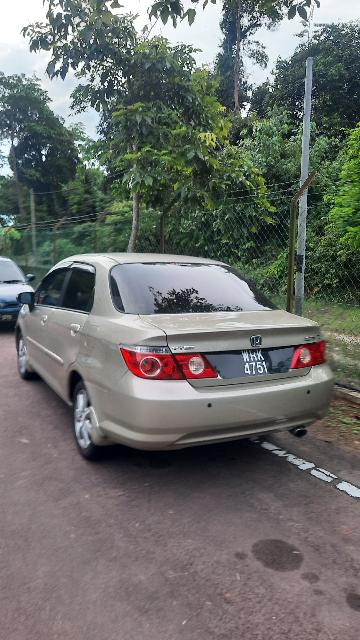License_Plate: (202, 342, 302, 383)
car: (14, 253, 339, 458)
